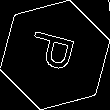P_E: (26, 31, 84, 79)
